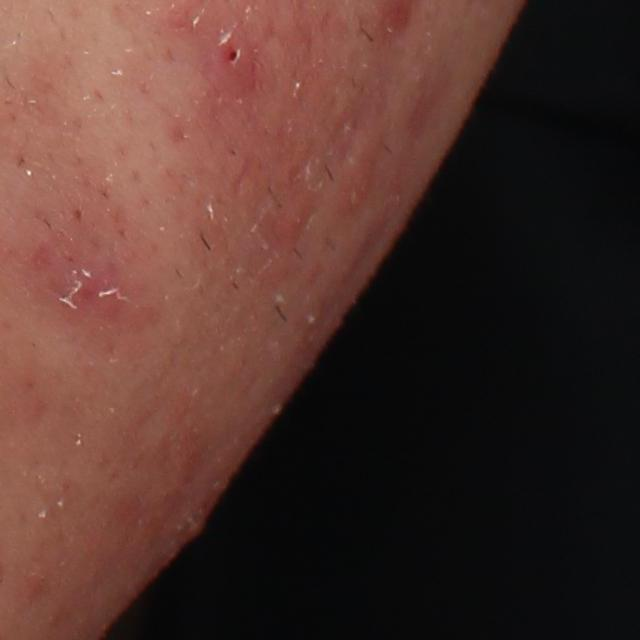papule: (211, 17, 256, 81)
